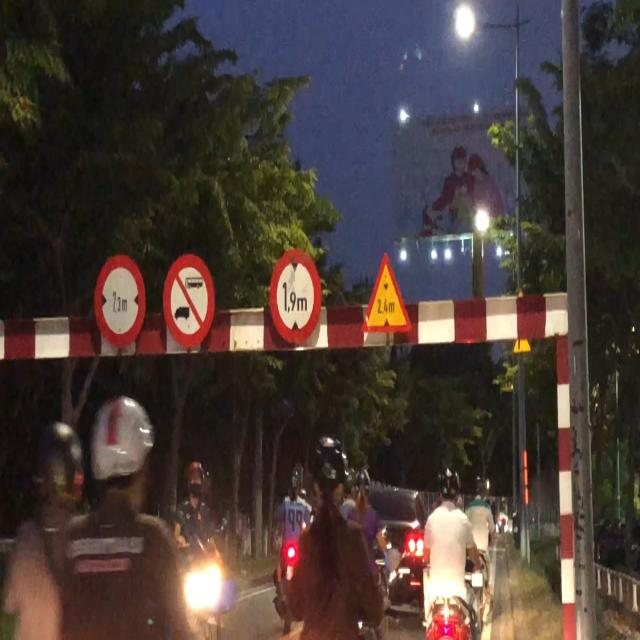Bien bao cam xe oto khach va xe oto tai: (163, 252, 215, 354)
Bien bao chieu cao tinh khong thuc te: (354, 248, 422, 342)
Bien bao han che chieu cao: (266, 238, 326, 351)
